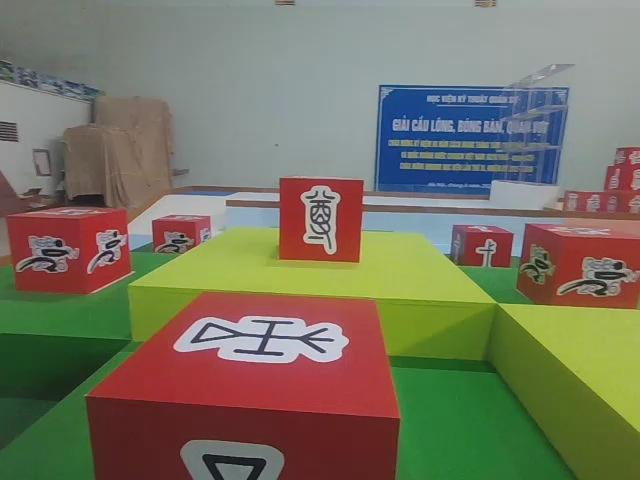R1: (3, 201, 134, 299), (514, 220, 640, 312), (148, 211, 213, 264)
R2 Fake: (275, 173, 366, 267)
R2 Real: (84, 287, 405, 480), (447, 222, 515, 275)
